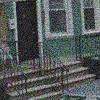stairs: (1, 72, 56, 100)
